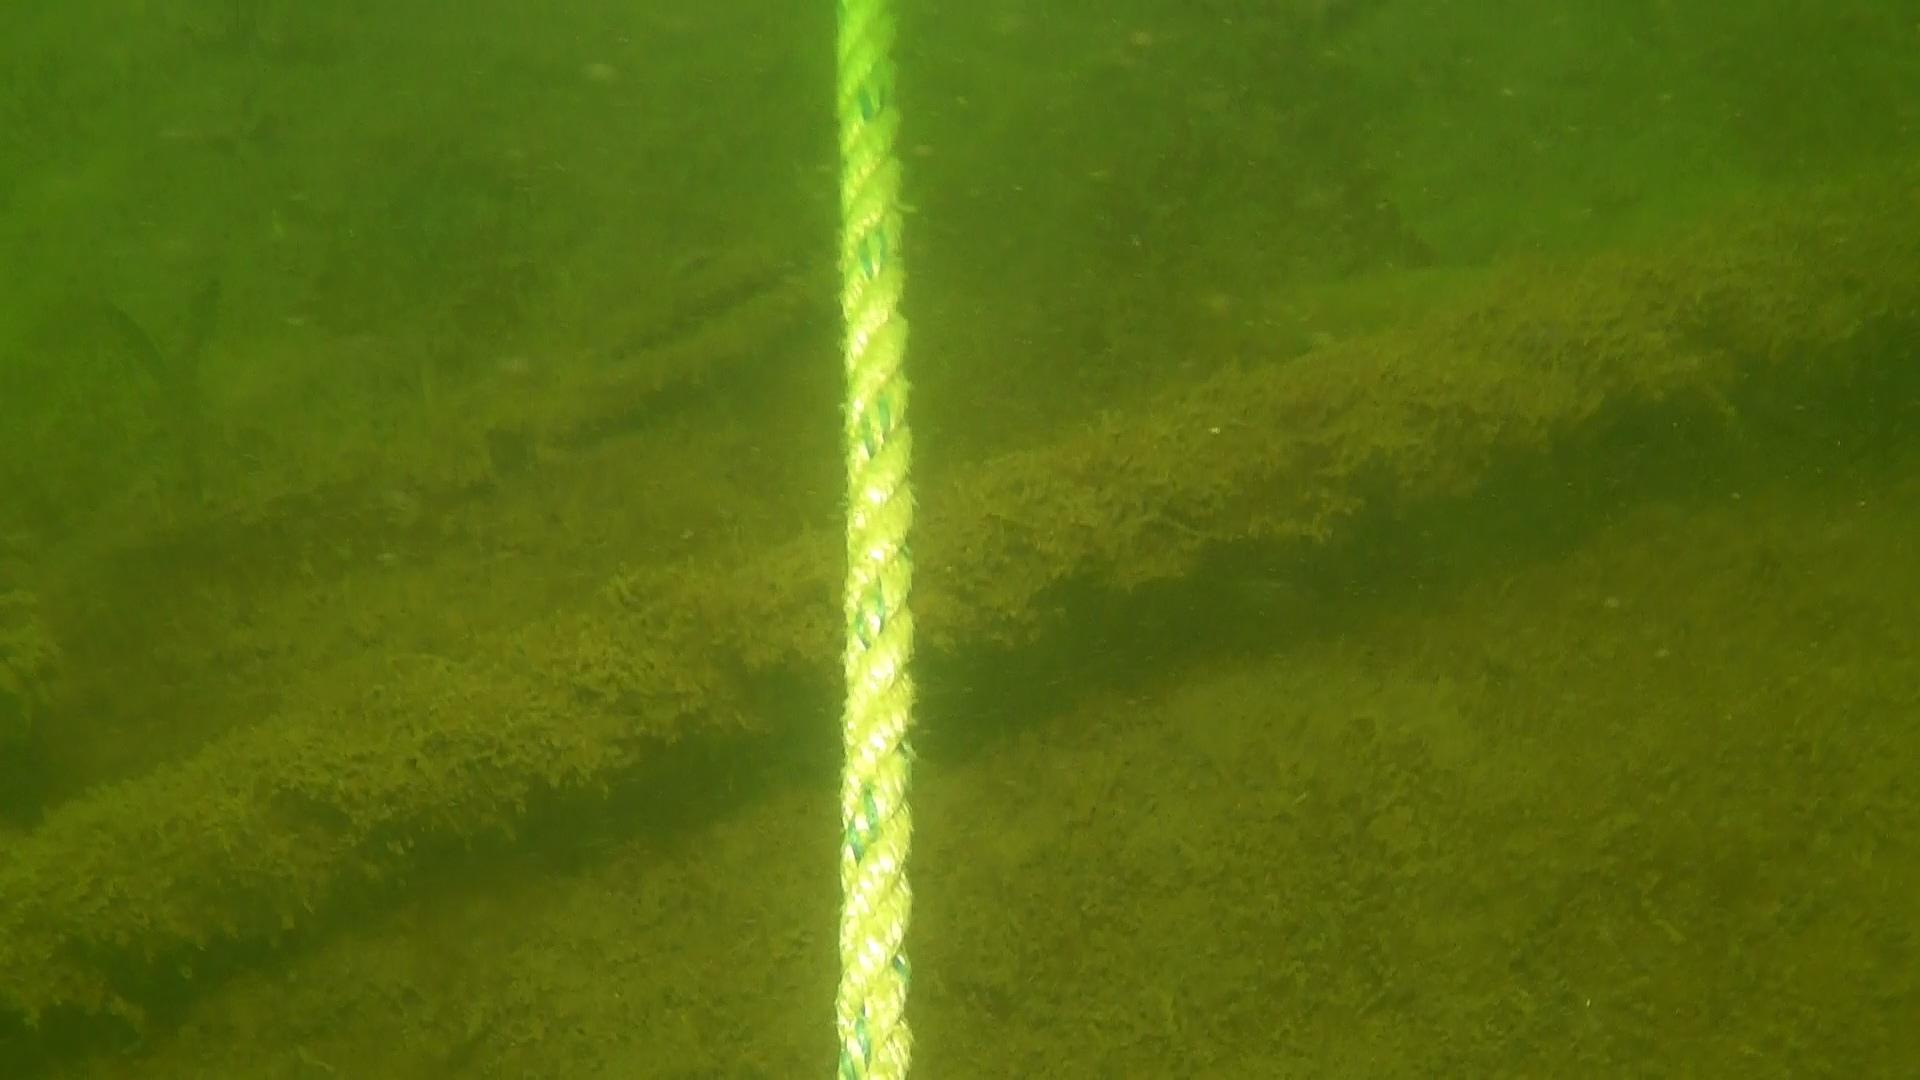rope: (832, 0, 916, 1080)
